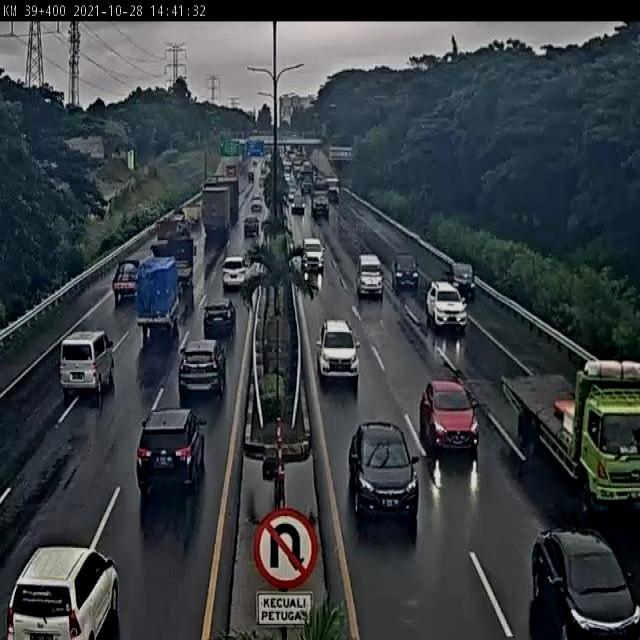Car: (3, 538, 120, 640), (544, 520, 640, 640), (344, 420, 422, 524), (128, 408, 204, 503), (61, 321, 118, 409), (419, 372, 477, 456), (310, 311, 362, 392), (175, 331, 233, 401), (433, 276, 467, 330), (358, 248, 383, 304), (445, 262, 483, 296), (216, 253, 254, 286), (394, 254, 425, 292), (300, 239, 330, 273), (243, 215, 266, 238)
Truck: (493, 347, 640, 509), (137, 239, 197, 333), (200, 184, 235, 241), (108, 252, 143, 302)
